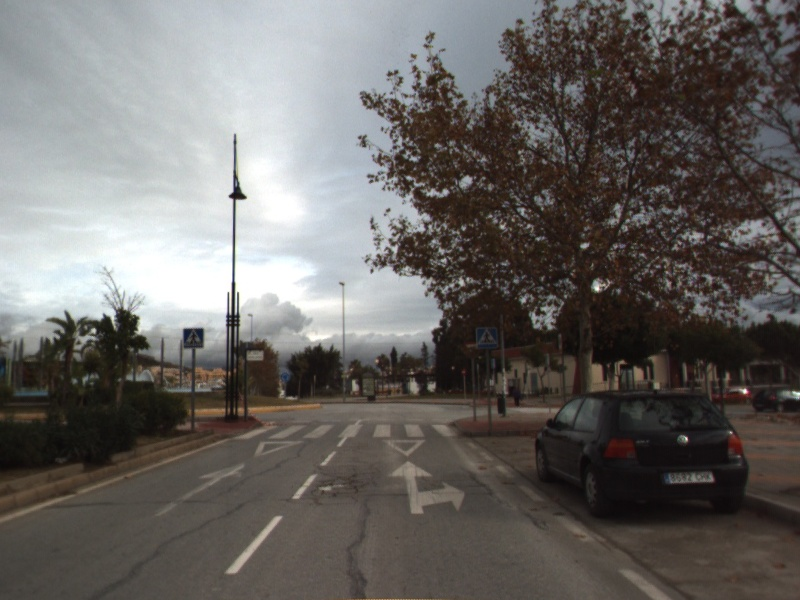STRAIGHT: (152, 459, 247, 518)
STRAIGHT_RIGHT: (385, 458, 467, 516)
